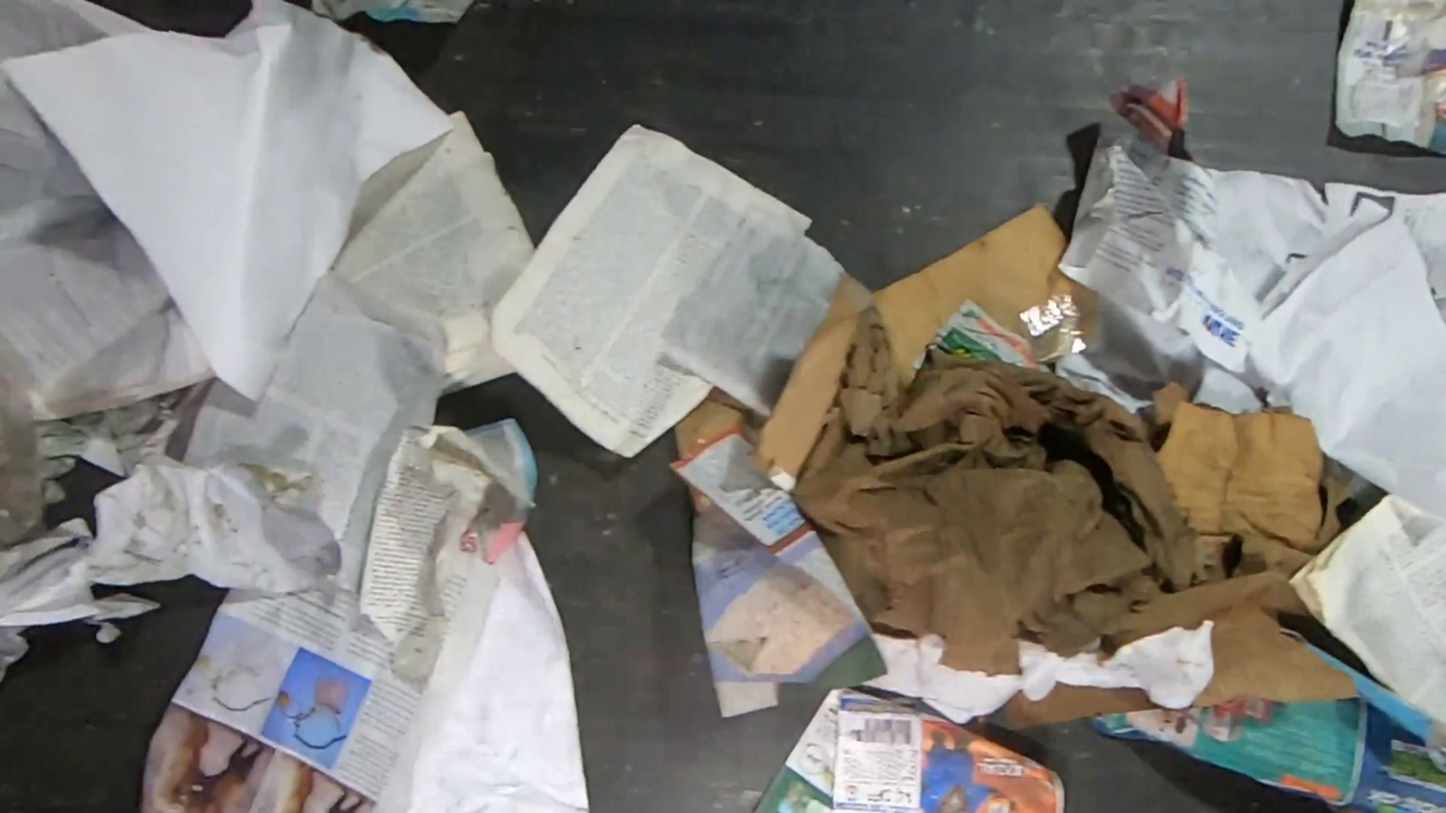cardboard: (749, 202, 1092, 479), (1088, 644, 1446, 813), (1154, 399, 1356, 557), (1334, 0, 1446, 157), (978, 682, 1165, 732)
plastic: (0, 334, 48, 552)
